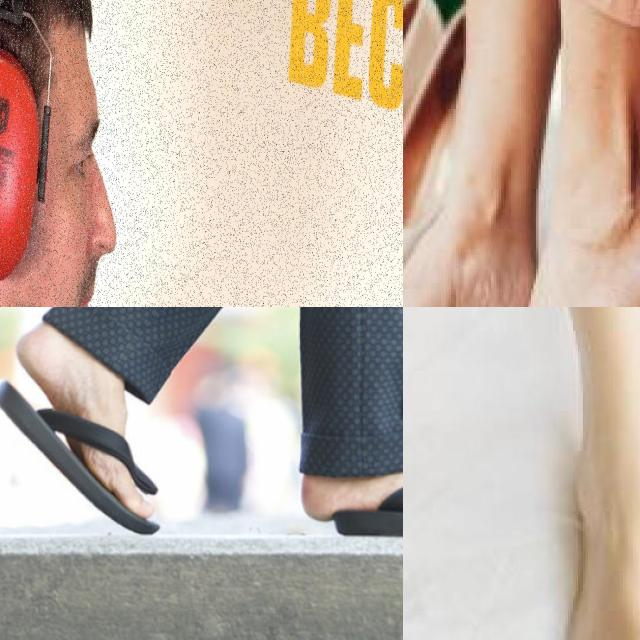Barefoots: (403, 131, 531, 307), (525, 140, 640, 307), (544, 472, 640, 640)
Ear-protection: (0, 0, 60, 303)
Sandals: (0, 315, 162, 533), (299, 426, 403, 536)
